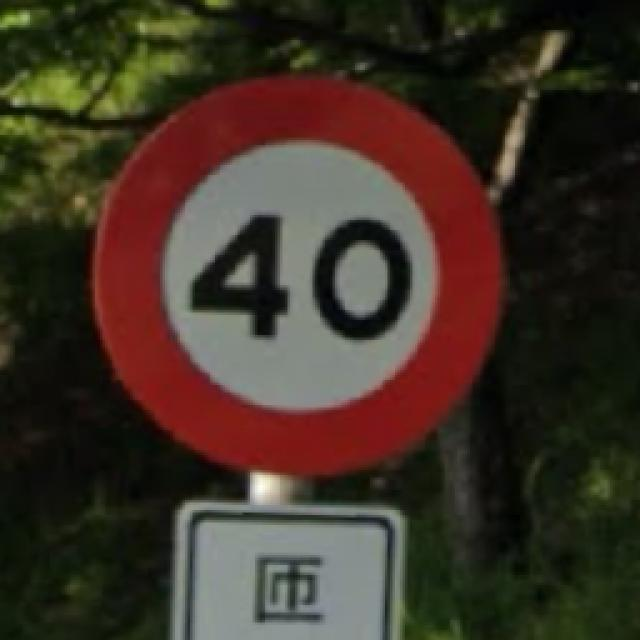Speed Limit -40-: (95, 78, 498, 472)
